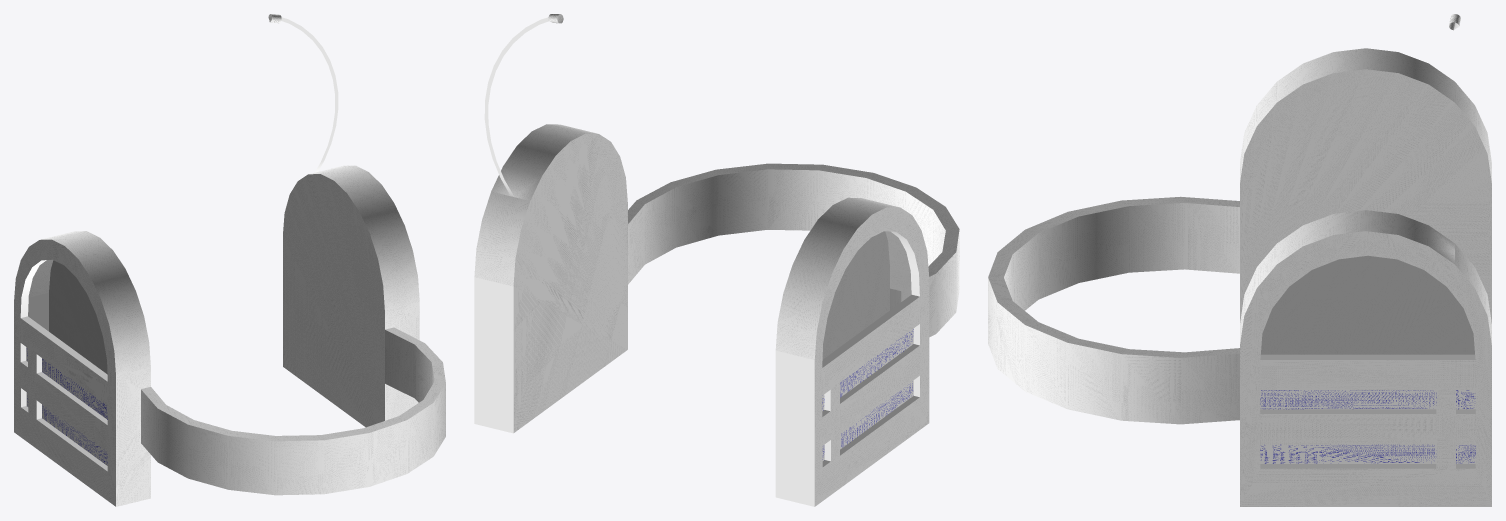
Rendered from model_align.obj.
3 views of the same model, side by side, from view 1: azimuth 30°, elevation 25°; view 2: azimuth 150°, elevation 25°; view 3: azimuth 270°, elevation 25° (orthographic). The views are drawn at different scales.
Parts seen in each view (by area): view 1: mesh1_mesh1-geometry; view 2: mesh1_mesh1-geometry; view 3: mesh1_mesh1-geometry.
Boxes of the visible parts, x1,y1,x2,y2 form: mesh1_mesh1-geometry: (14, 17, 445, 506); mesh1_mesh1-geometry: (474, 17, 959, 506); mesh1_mesh1-geometry: (988, 48, 1491, 506).
Size of the model in its own units: 0.0987 by 0.1126 by 0.1127.
